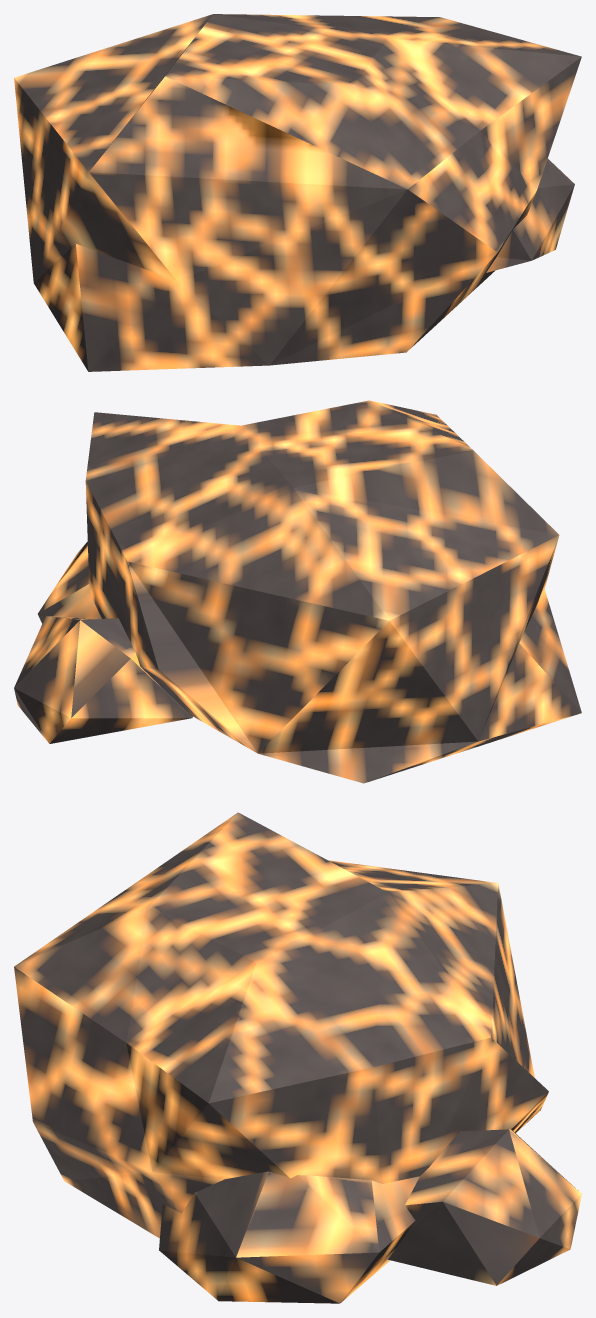
The model's file is slag_chunk_b_lod1.gltf.
3 renders of one model, top to bottom at view 1: azimuth 30°, elevation 25°; view 2: azimuth 150°, elevation 25°; view 3: azimuth 270°, elevation 25°, orthographic. The views are drawn at different scales.
Visible parts, largest first — view 1: slag_chunk_b_LOD1; view 2: slag_chunk_b_LOD1; view 3: slag_chunk_b_LOD1.
Boxes of the visible parts, x1,y1,x2,y2 form: slag_chunk_b_LOD1: (14, 14, 581, 371); slag_chunk_b_LOD1: (14, 400, 581, 783); slag_chunk_b_LOD1: (14, 812, 581, 1303).
Size of the model in its own units: 1.16 by 0.5747 by 1.03.
1 material, 1 textured.
